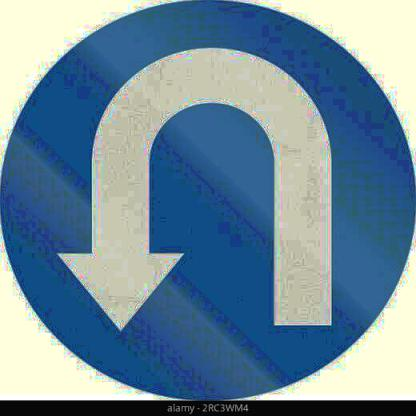U-turn: (0, 0, 416, 399)
